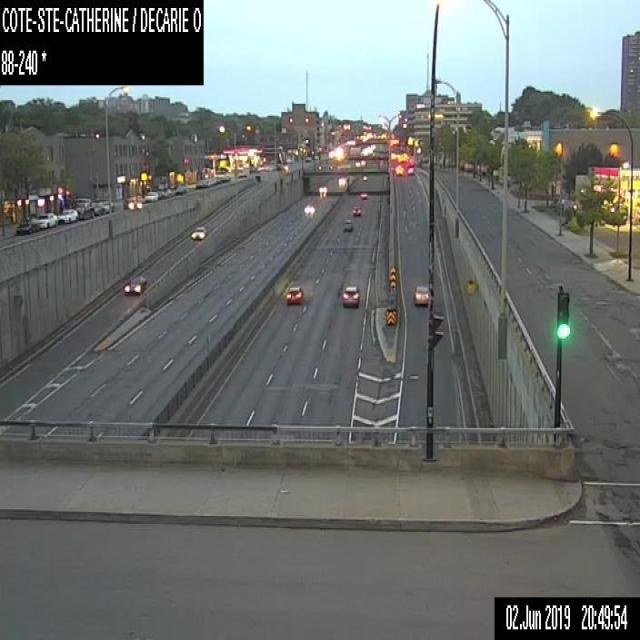vehicle: (123, 276, 146, 295), (342, 282, 359, 306), (285, 285, 303, 306), (36, 212, 57, 228), (57, 208, 78, 223), (413, 284, 428, 305), (14, 220, 38, 233), (75, 202, 94, 218), (190, 226, 207, 240), (122, 199, 141, 208), (100, 200, 114, 212), (144, 190, 158, 200), (92, 202, 102, 215), (196, 178, 209, 188), (343, 219, 352, 232), (304, 204, 314, 214), (175, 186, 186, 195), (352, 206, 361, 216), (157, 190, 166, 199), (406, 165, 414, 174), (166, 188, 174, 197), (318, 185, 326, 192), (359, 192, 366, 199)
